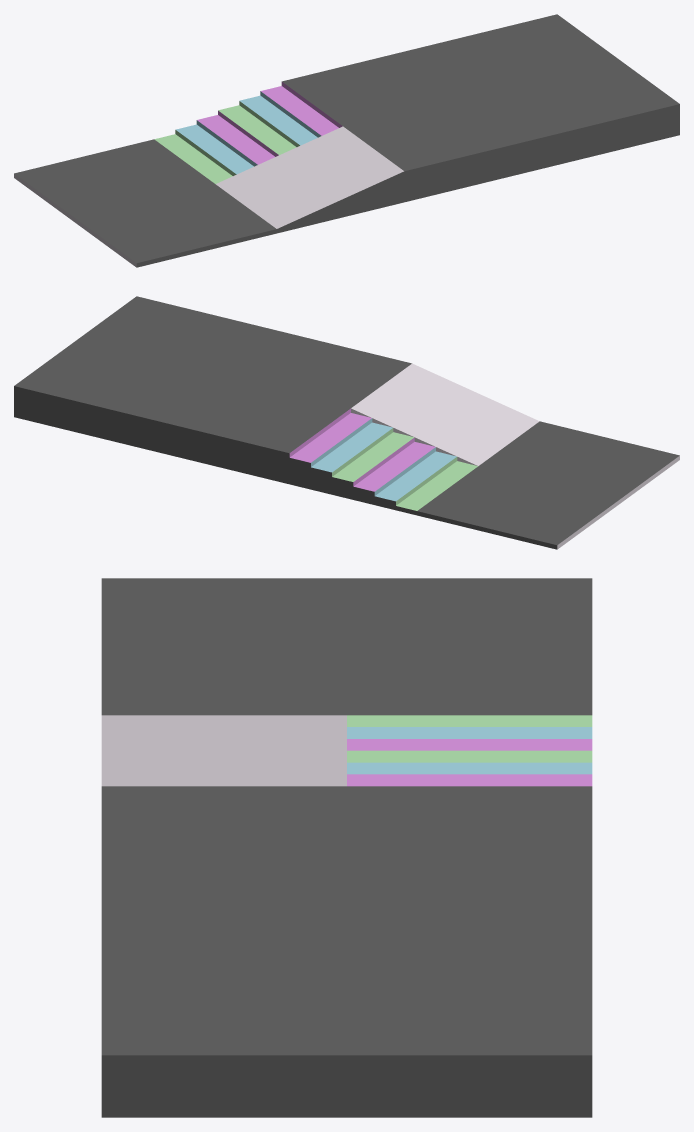
3 renders of one model, top to bottom at view 1: azimuth 30°, elevation 25°; view 2: azimuth 150°, elevation 25°; view 3: azimuth 270°, elevation 25°, orthographic. The views are drawn at different scales.
Visible parts, largest first — view 1: Polygon.002; view 2: Polygon.002; view 3: Polygon.002.
Boxes of the visible parts, bbox=[...] form: Polygon.002: bbox=[14, 14, 679, 267]; Polygon.002: bbox=[14, 296, 679, 549]; Polygon.002: bbox=[101, 578, 592, 1117].
Bounding box in the file's own units: 5.11 × 2 × 0.28.
